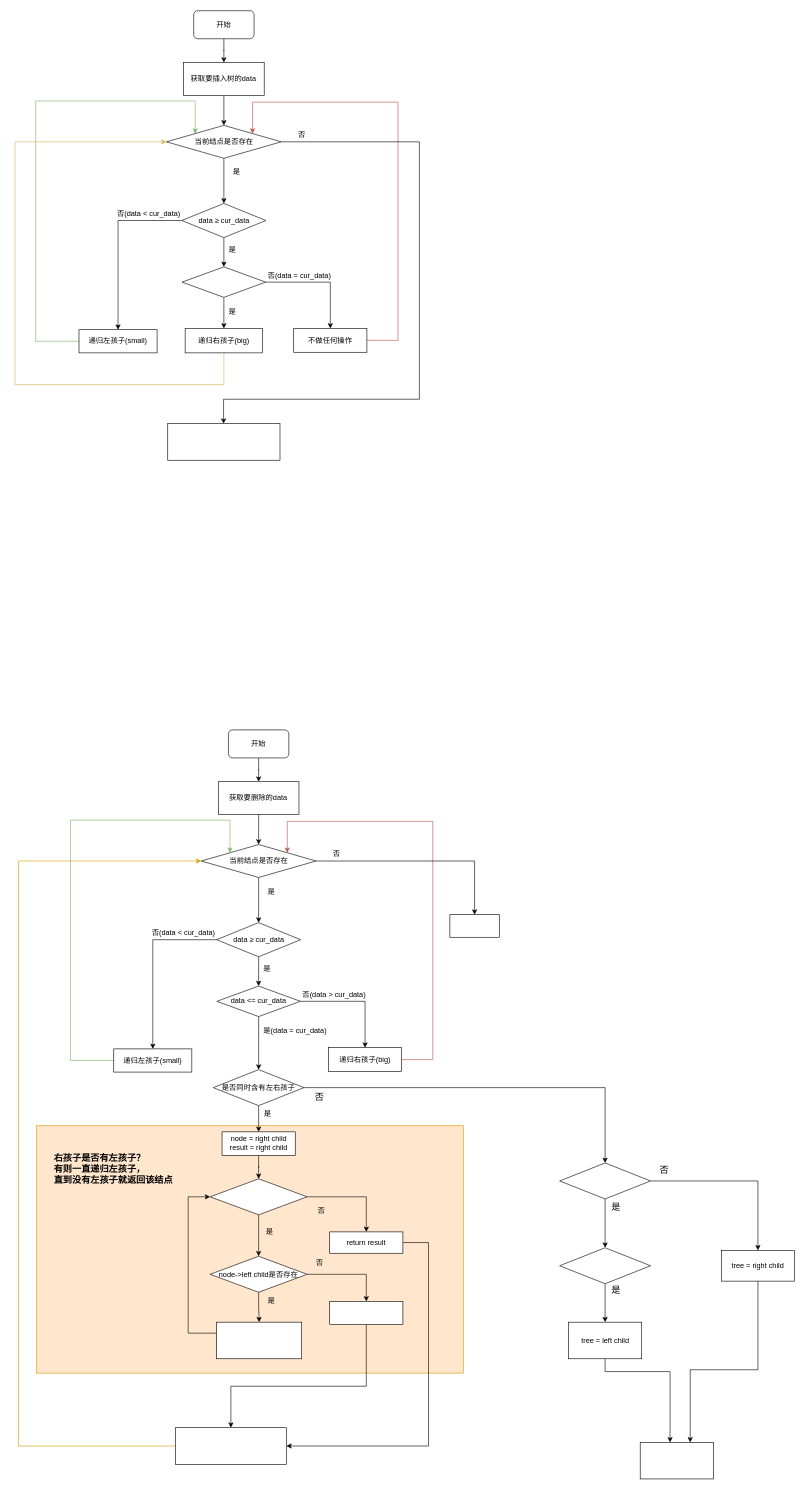
Image size: 805x1490. Some labels were removed from this diagram. Here are the shapes that lost their labels. From the top down, the centre of each, then its label:
At [223,281]: "data > cur_data".
At [223,441]: "insert new 0x20 chunk set data, content, link to children".
At [474,925]: "return 0".
At [258,1196]: "node是否存在".
At [605,1180]: "是否有左孩子".
At [605,1265]: "是否没有右孩子".
At [366,1313]: "return node".
At [259,1340]: "result = node -> left child node = result".
At [230,1445]: "cur->data = node(result)->data 递归右孩子".
At [676,1460]: "delete cur_content delete cur_node".
